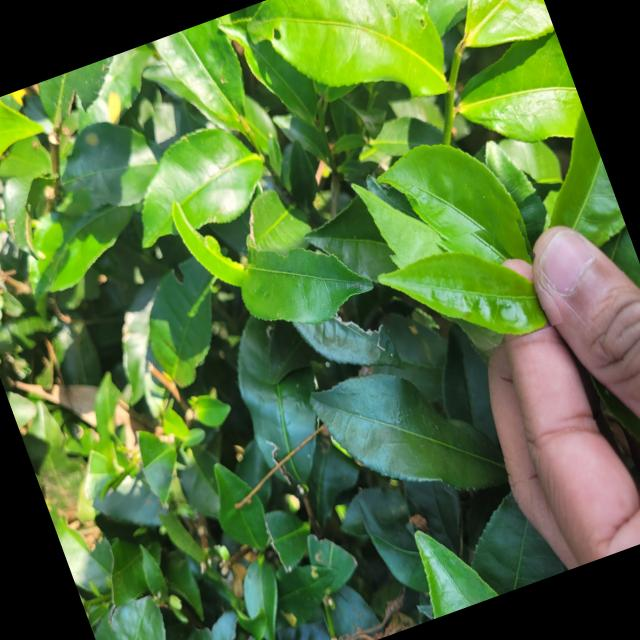Catagory A(1-2 days): (364, 204, 564, 378)
